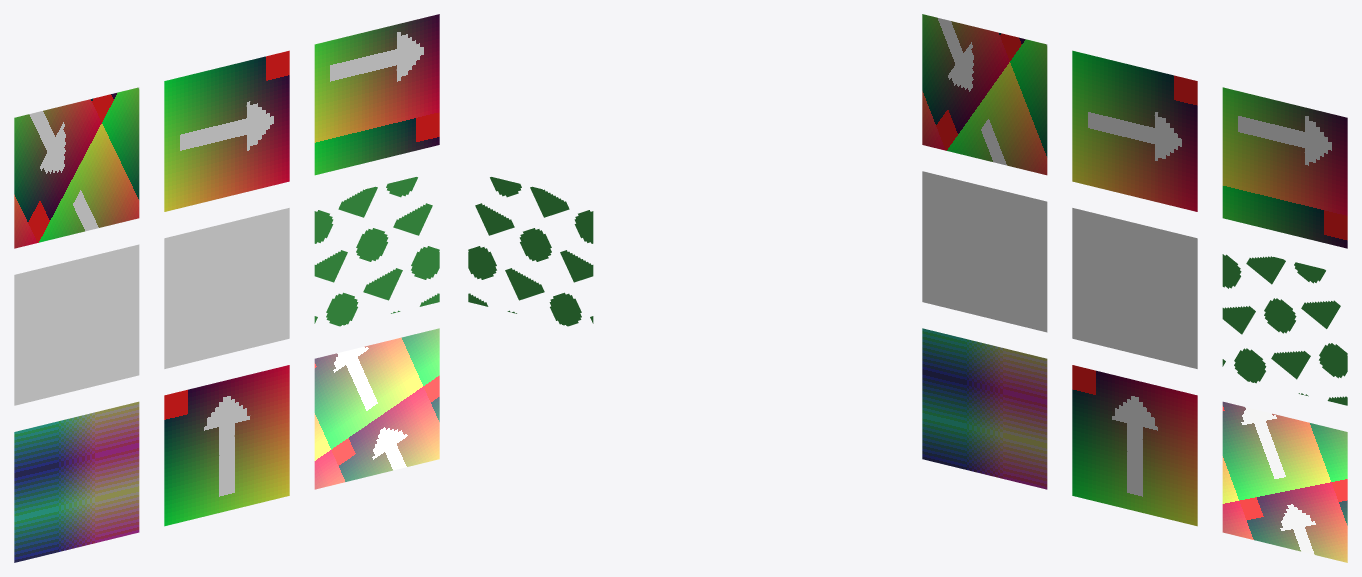
Rendered from materials-expected.glb.
3 renders of one model, left to right at view 1: azimuth 30°, elevation 25°; view 2: azimuth 150°, elevation 25°; view 3: azimuth 330°, elevation 25°, orthographic.
Parts seen in each view (by area): view 1: Transform, Emissive occlusion, UV1, Normal transformed, Per-slot UV sets, KHR texCoord, Clamp mirror nearest, Normal UV1, Masked; view 2: Masked; view 3: KHR texCoord, Clamp mirror nearest, UV1, Normal transformed, Per-slot UV sets, Transform, Emissive occlusion, Normal UV1, Masked.
Boxes of the visible parts, x1,y1,x2,y2 form: Transform: (14, 87, 139, 248); Emissive occlusion: (314, 328, 439, 489); UV1: (164, 50, 289, 211); Normal transformed: (14, 244, 139, 405); Per-slot UV sets: (164, 365, 289, 526); KHR texCoord: (314, 14, 439, 175); Clamp mirror nearest: (14, 401, 139, 562); Normal UV1: (164, 208, 289, 368); Masked: (314, 177, 439, 326); Masked: (468, 177, 593, 326); KHR texCoord: (1222, 87, 1347, 248); Clamp mirror nearest: (922, 328, 1047, 489); UV1: (1072, 50, 1197, 211); Normal transformed: (922, 171, 1047, 332); Per-slot UV sets: (1072, 365, 1197, 526); Transform: (922, 14, 1047, 175); Emissive occlusion: (1222, 401, 1347, 562); Normal UV1: (1072, 208, 1197, 368); Masked: (1222, 254, 1347, 405).
Bounding box in the file's own units: 3.4 × 3.4 × 0.
Materials: 9 (6 with a texture image).
